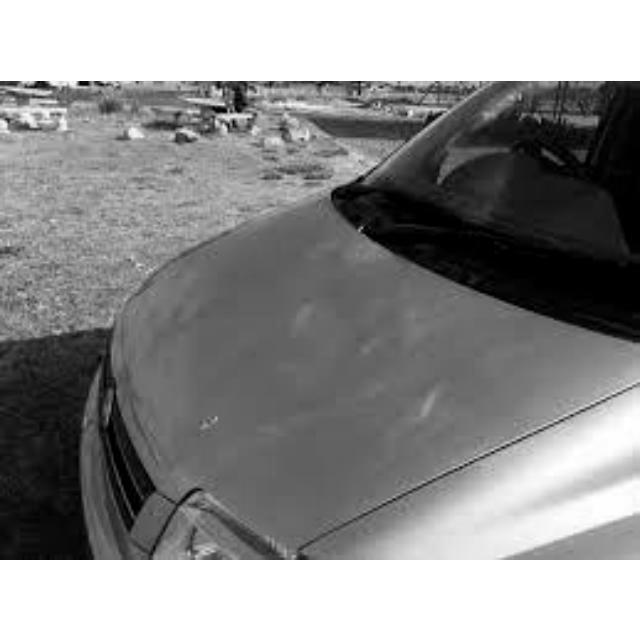bonnet-dent: (129, 231, 534, 520)
